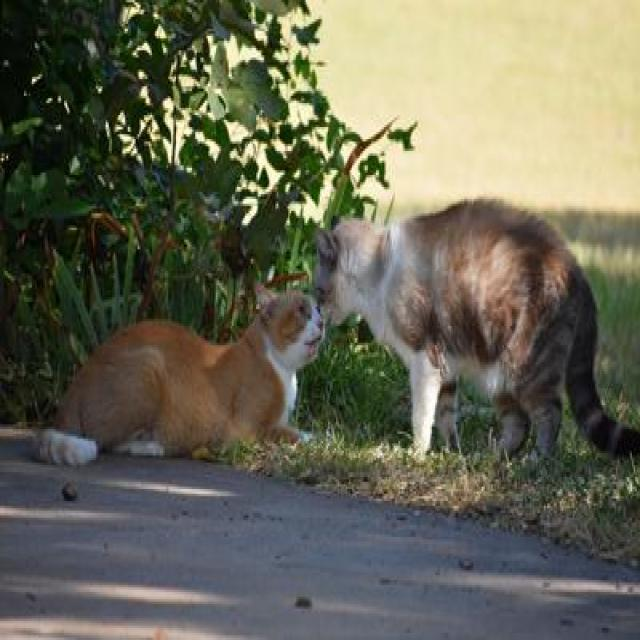cat: (315, 200, 640, 456), (31, 287, 324, 465)
